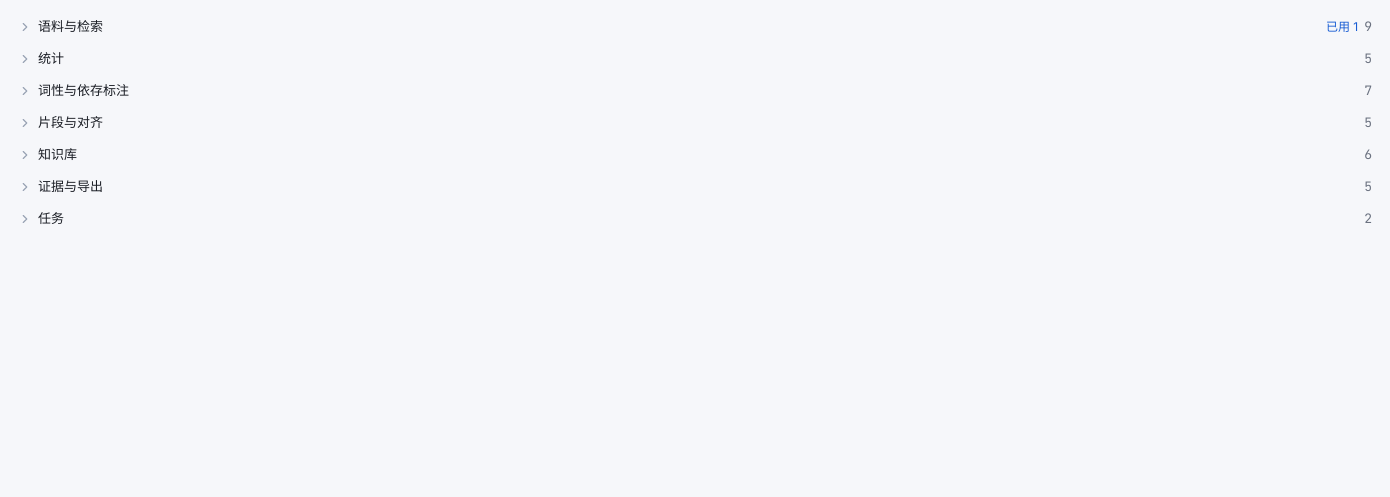
Test: tools rail › groups tools by capability with Chinese names, folded until opened
Expected: the text "检索语料" is not shown
Click the text "语料与检索" at (70, 26), box [38,18,103,34]
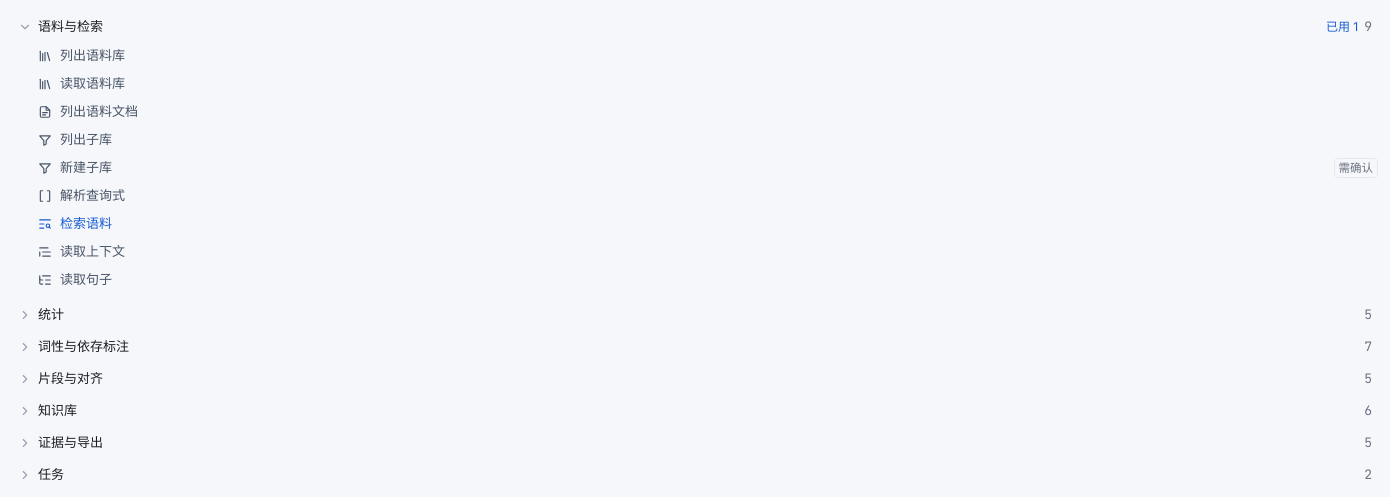
Expected: the text "已用 1" is shown, [1326,18,1358,36]
Expected: the text "检索语料" is shown, [60,215,112,231]
